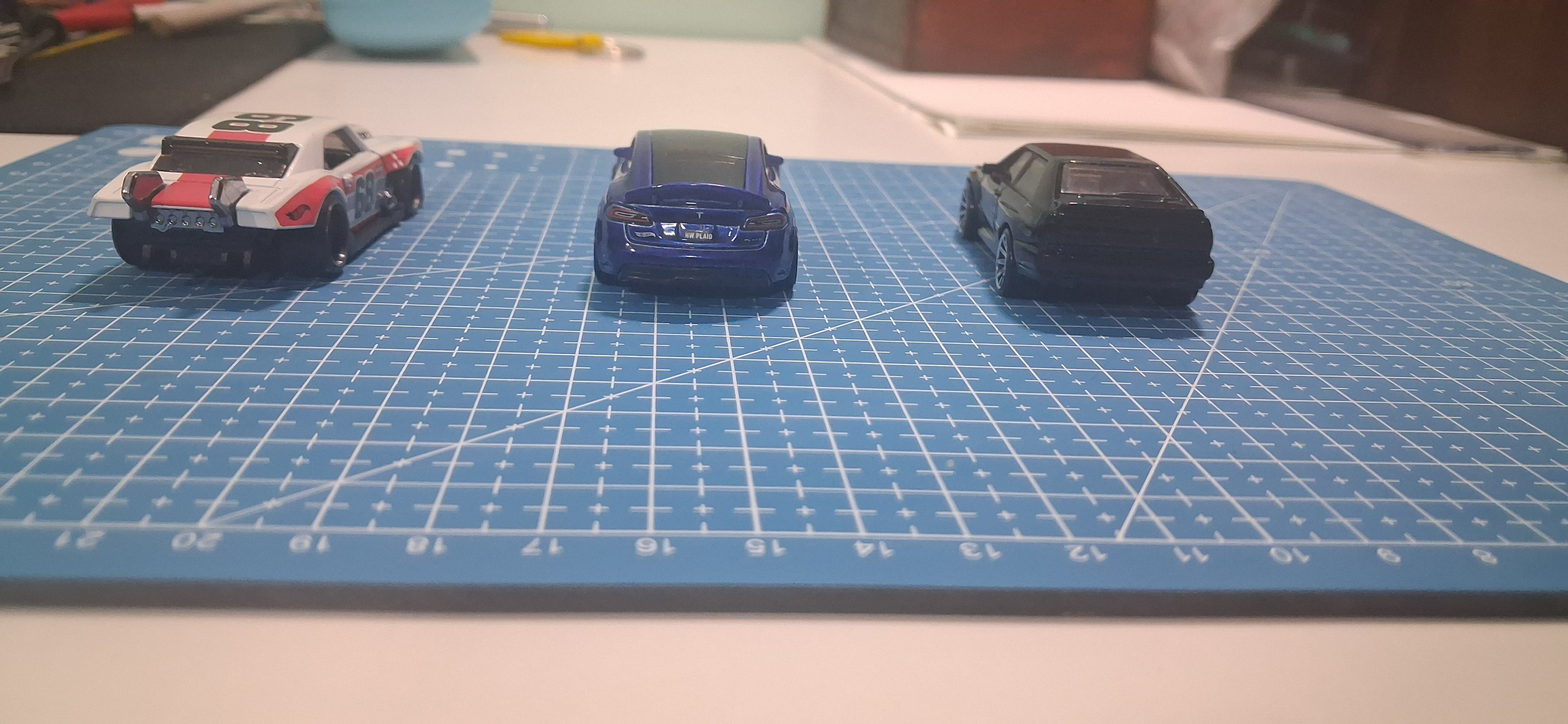Audi_Quattro: (949, 113, 1252, 381)
Camaro: (66, 80, 449, 333)
Tesla_Model_S_Plaid: (560, 90, 863, 347)
